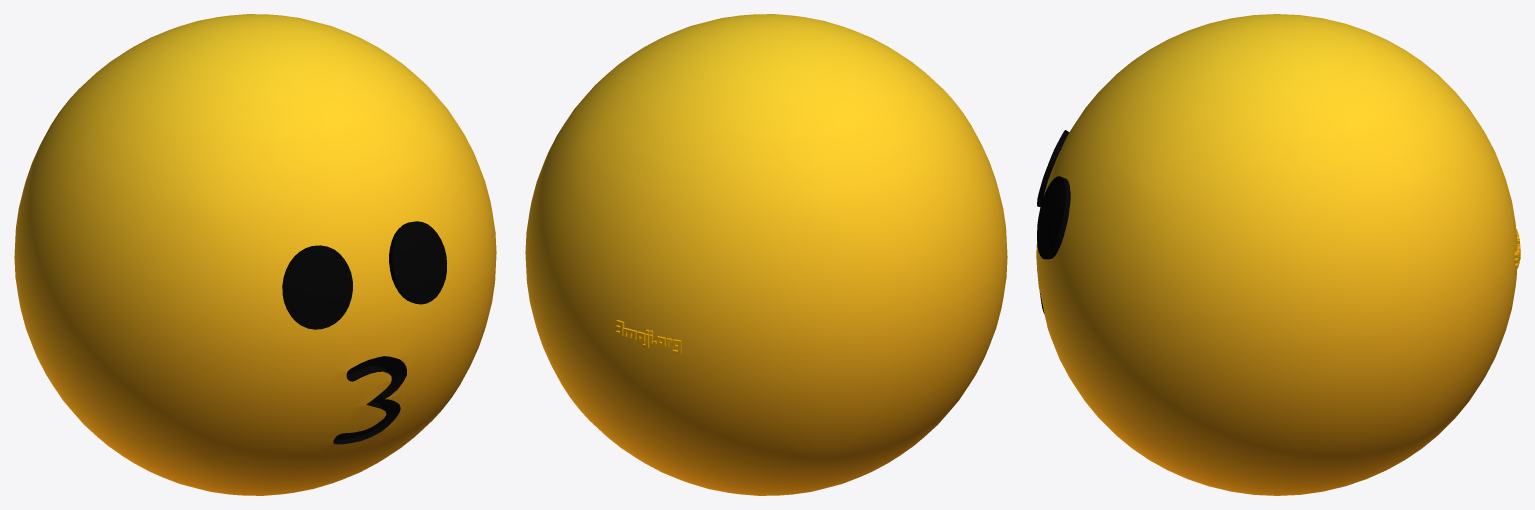
Rendered from kissing_face.gltf.
3 views of the same model, side by side, from view 1: azimuth 30°, elevation 25°; view 2: azimuth 150°, elevation 25°; view 3: azimuth 270°, elevation 25° (orthographic).
Visible parts, largest first — view 1: Kissing Face; view 2: Kissing Face; view 3: Kissing Face.
Part boxes in pixels (box(x1,y1,x2,y2)): Kissing Face: box(14, 14, 496, 495); Kissing Face: box(525, 14, 1007, 495); Kissing Face: box(1036, 14, 1520, 495).
Bounding box in the file's own units: 1.69 × 1.69 × 1.7.
1 material, 1 textured.
